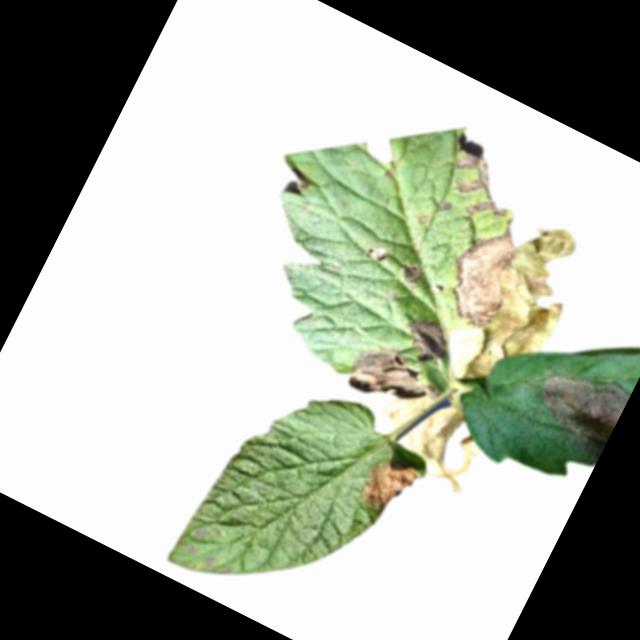Late_blight: (444, 207, 601, 406), (433, 214, 533, 335), (392, 390, 500, 494), (526, 359, 629, 454), (437, 145, 531, 232), (344, 340, 440, 421), (354, 451, 422, 520), (366, 374, 430, 438), (398, 311, 458, 372), (394, 259, 426, 292), (286, 165, 314, 192)
